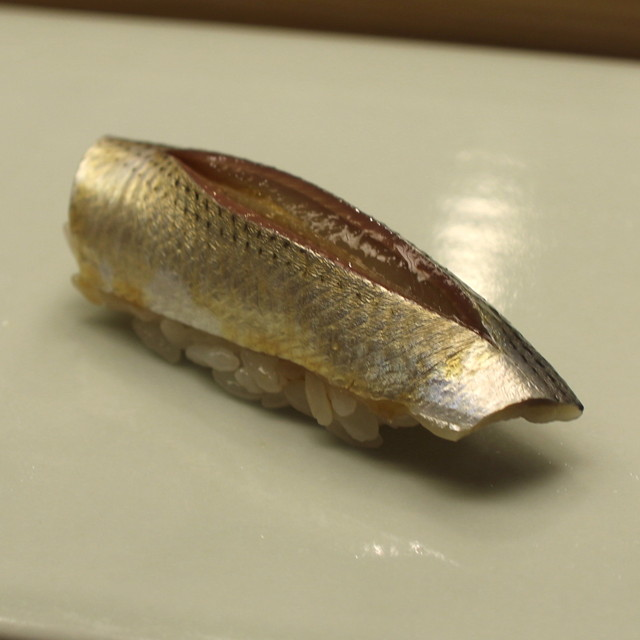spotted-shad: (63, 130, 586, 470)
